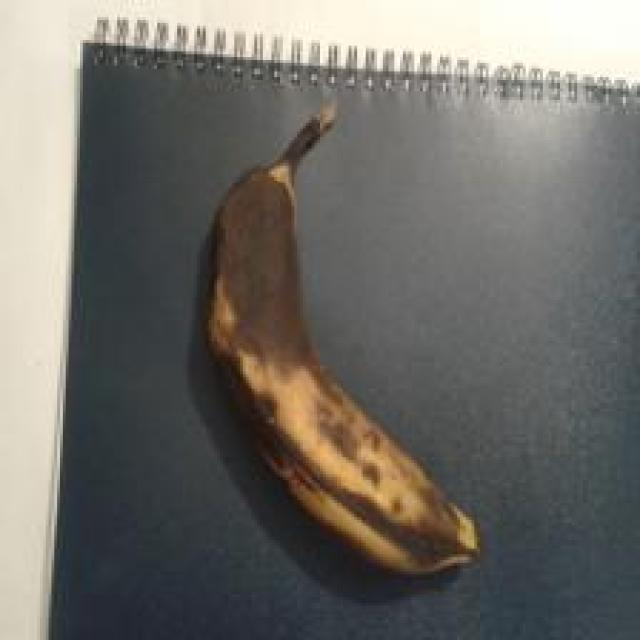Rotten_Banana: (189, 74, 492, 572)
